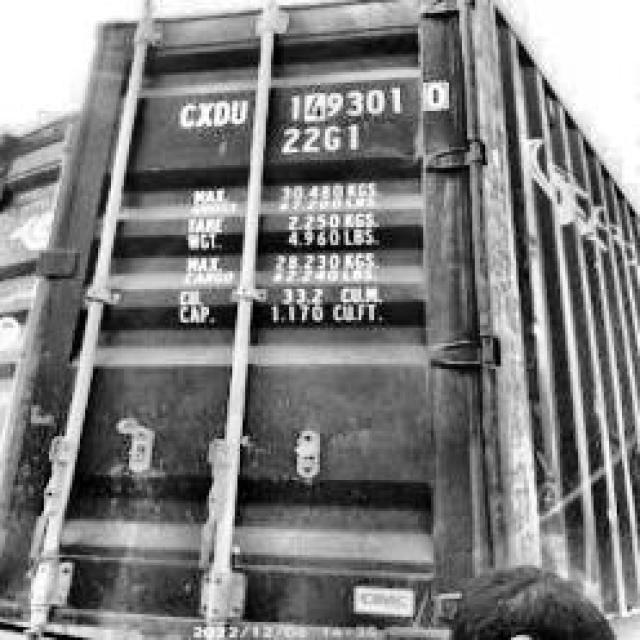ISO: (272, 125, 362, 156)
container_number: (164, 81, 444, 130)
